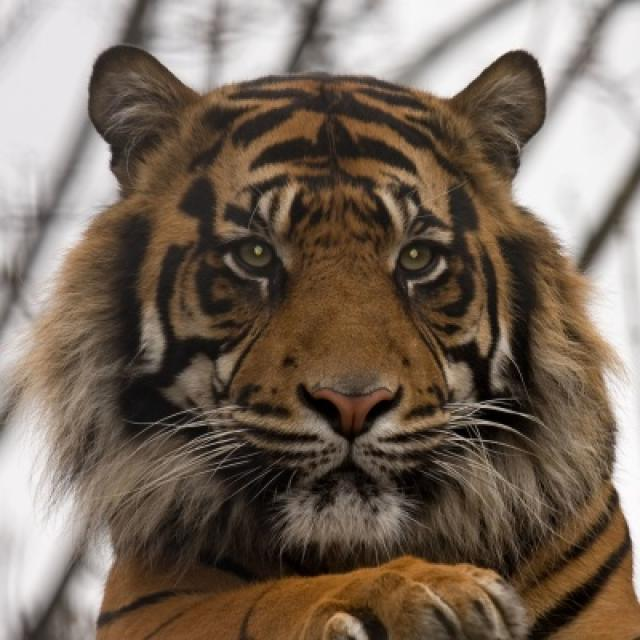Tiger: (37, 52, 638, 630)
